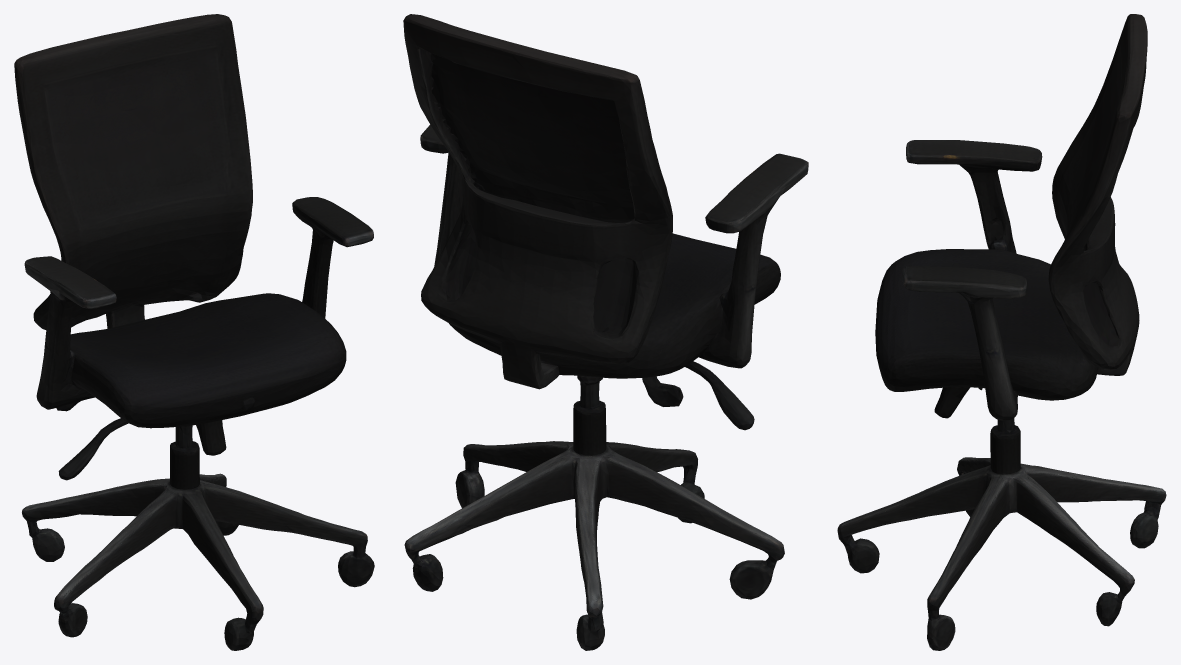
3 views of the same model, side by side, from view 1: azimuth 30°, elevation 25°; view 2: azimuth 150°, elevation 25°; view 3: azimuth 270°, elevation 25° (orthographic). The views are drawn at different scales.
Parts seen in each view (by area): view 1: world; view 2: world; view 3: world.
Part boxes in pixels (x1,y1,x2,y2): world: [14, 14, 374, 650]; world: [403, 14, 808, 650]; world: [837, 14, 1166, 650].
Bounding box in the file's own units: 0.6208 × 1 × 0.5767.
Materials: 1 (1 with a texture image).
